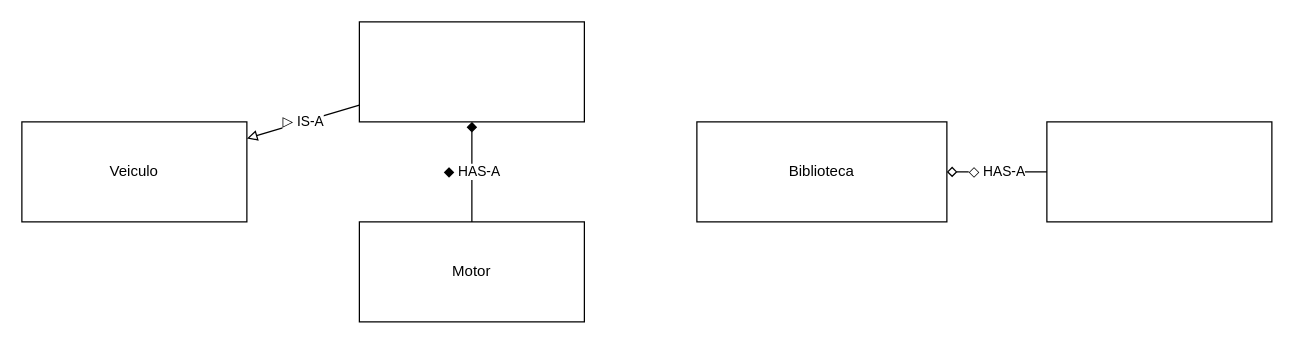
Image size: 1294x344. Some labels were removed from this diagram. Each missing label, with the box of its shape:
Carro: (358, 21, 584, 122)
Professor: (1046, 121, 1272, 222)
